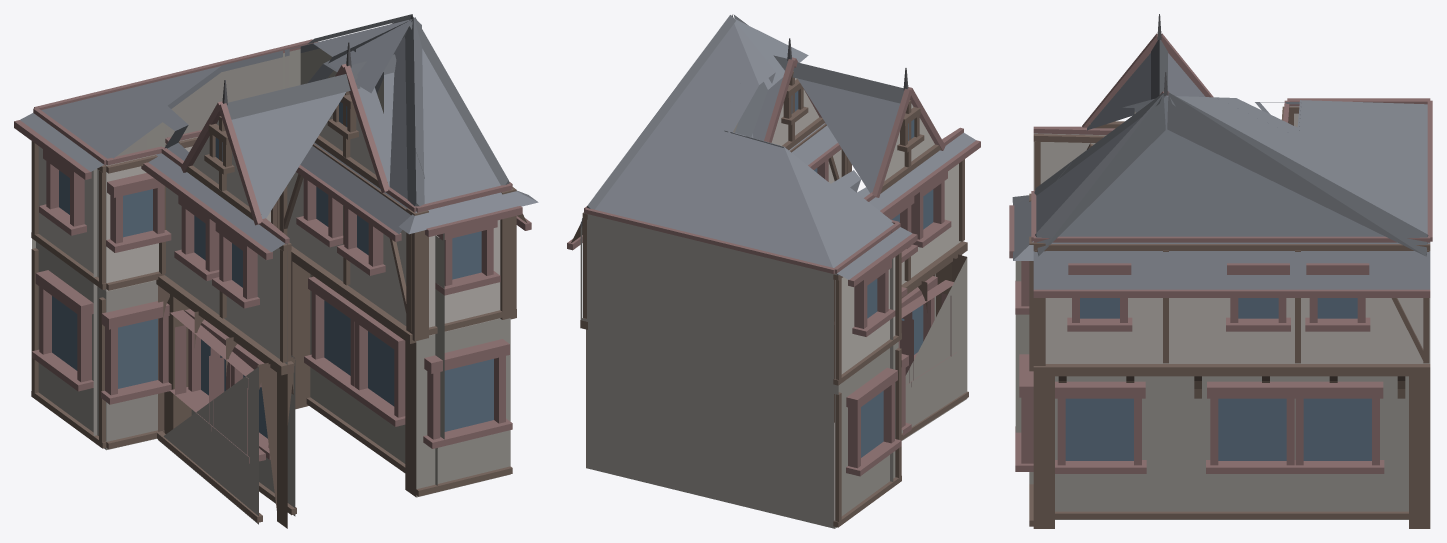
Rendered from b138_closed.glb.
3 renders of one model, left to right at view 1: azimuth 30°, elevation 25°; view 2: azimuth 150°, elevation 25°; view 3: azimuth 270°, elevation 25°, orthographic. The views are drawn at different scales.
Visible parts, largest first — view 1: B138_visible; view 2: B138_visible; view 3: B138_visible.
Boxes of the visible parts, left/top/right/bottom form: B138_visible: left=14, top=14, right=538, bottom=528; B138_visible: left=567, top=14, right=980, bottom=528; B138_visible: left=1009, top=14, right=1432, bottom=528.
Size of the model in its own units: 7.49 by 9.36 by 8.52.
